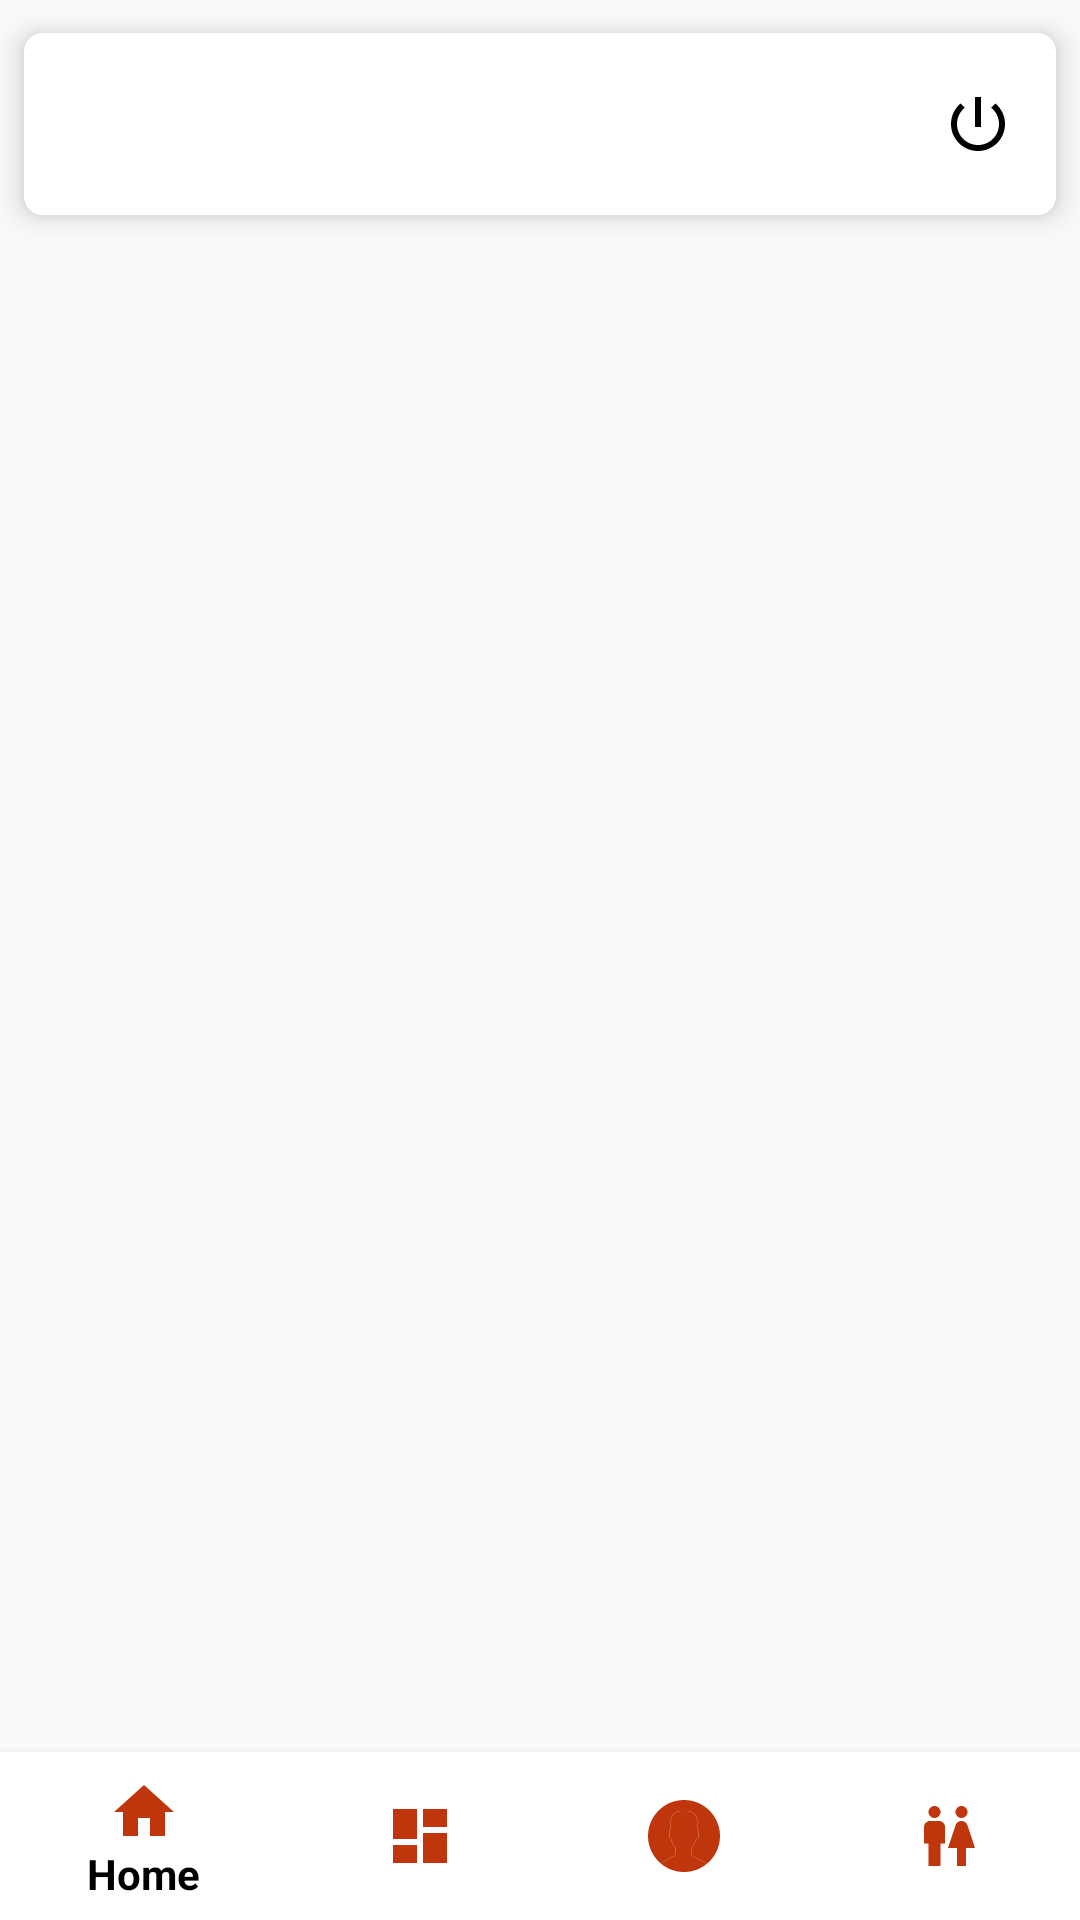

Icon click points for this 1080px x 1920px phone screenshot, format (x,y):
power settings: (978,124)
